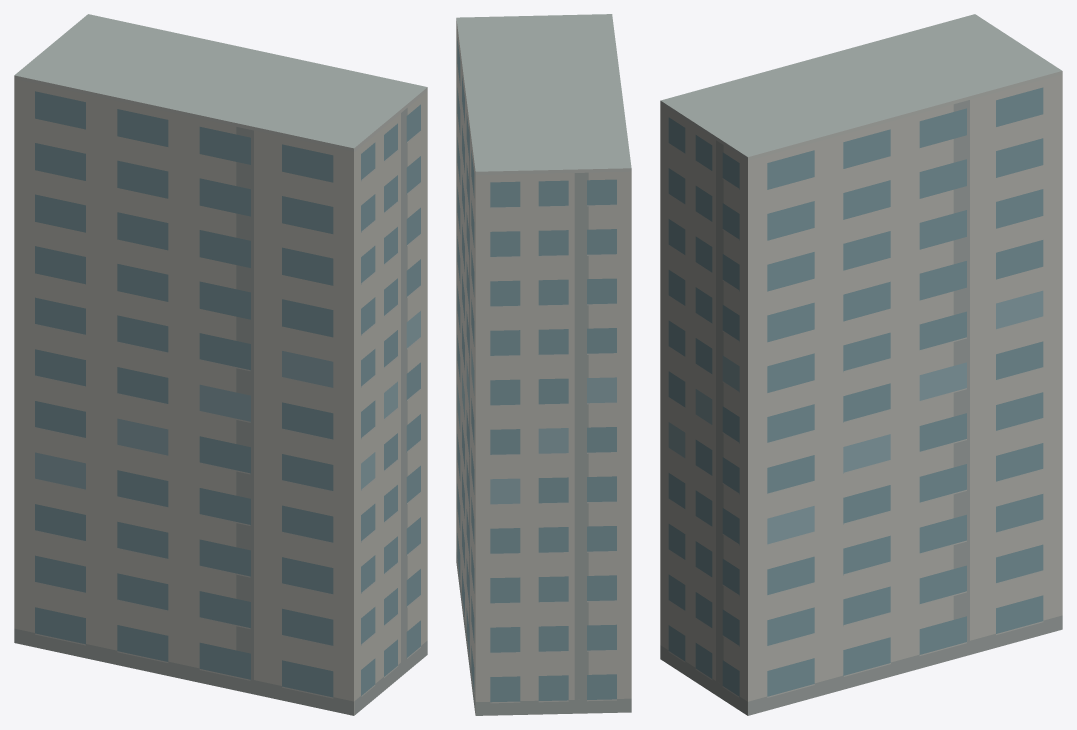
Rendered from residential-576fe627-cc38-4d25-91a6-9736c25f00a1.glb.
The picture shows the model from 3 angles, left to right: view 1: azimuth 30°, elevation 25°; view 2: azimuth 150°, elevation 25°; view 3: azimuth 270°, elevation 25°; orthographic projection. The views are drawn at different scales.
Parts seen in each view (by area): view 1: residential-576fe627-cc38-4d25-91a6-9736c25f00a1.tmp; view 2: residential-576fe627-cc38-4d25-91a6-9736c25f00a1.tmp; view 3: residential-576fe627-cc38-4d25-91a6-9736c25f00a1.tmp.
Boxes of the visible parts, x1,y1,x2,y2 form: residential-576fe627-cc38-4d25-91a6-9736c25f00a1.tmp: (14, 14, 427, 715); residential-576fe627-cc38-4d25-91a6-9736c25f00a1.tmp: (456, 14, 631, 715); residential-576fe627-cc38-4d25-91a6-9736c25f00a1.tmp: (660, 14, 1062, 715).
Bounding box in the file's own units: 20.9 × 38 × 24.79.
